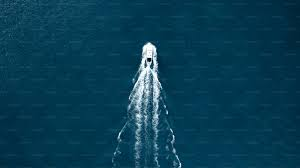boat: (137, 39, 164, 74)
